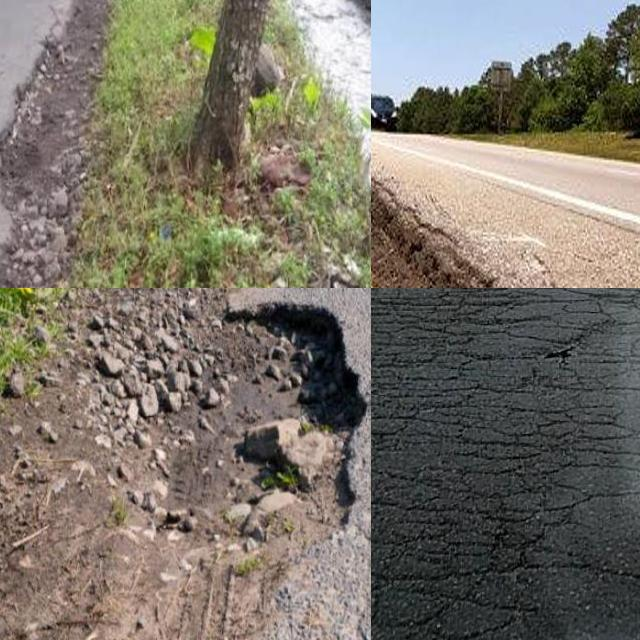Pinggir: (203, 297, 371, 581), (0, 0, 125, 288)
Retak Buaya: (371, 288, 640, 640)
